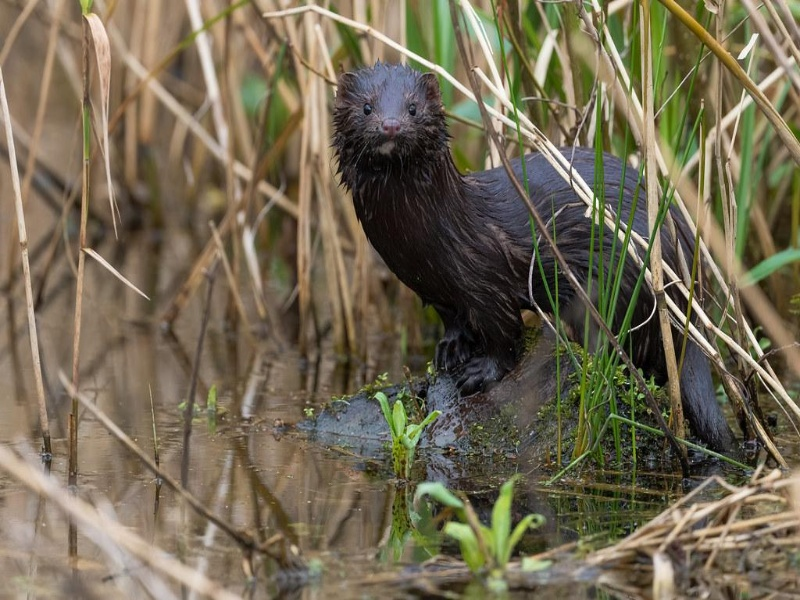minkish: (328, 61, 737, 455)
